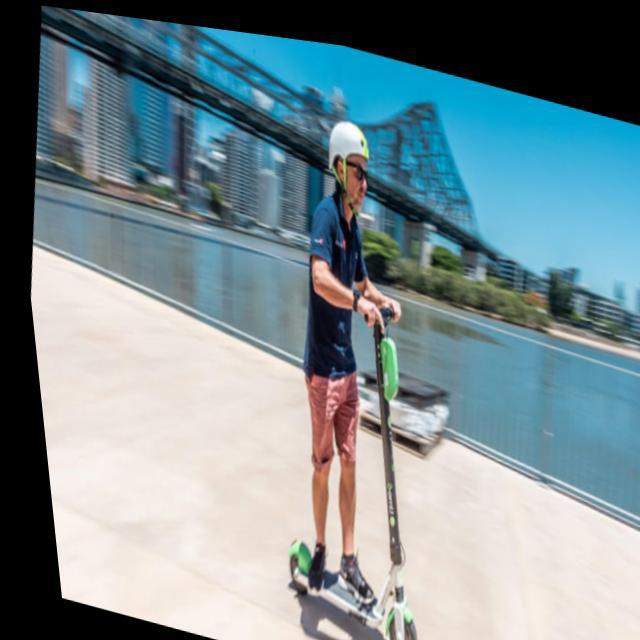Helmet: (317, 113, 379, 214)
